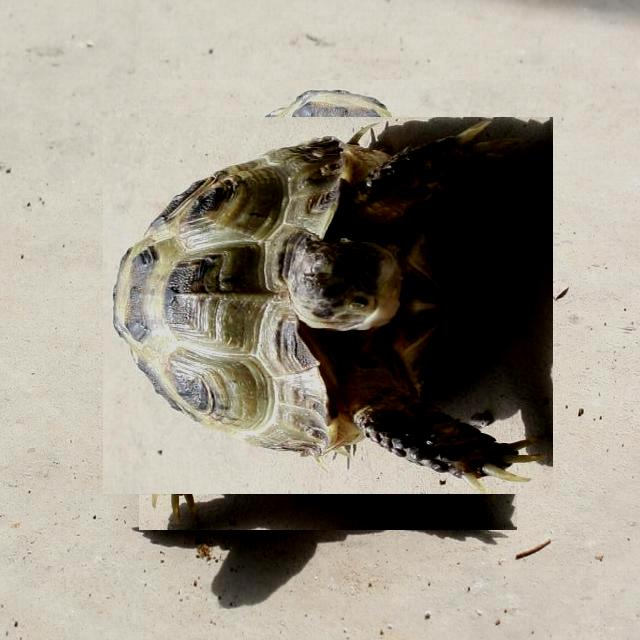Sea turtle: (121, 99, 535, 512)
